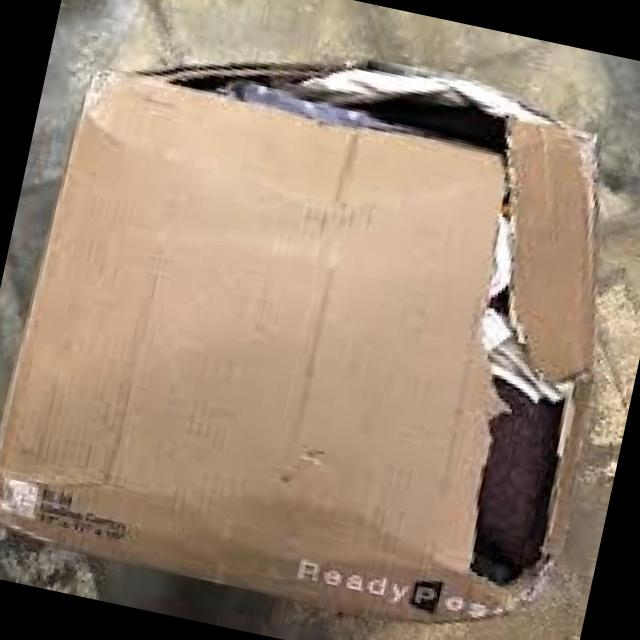box: (0, 55, 599, 622)
opened: (465, 102, 596, 591), (116, 55, 580, 158)
